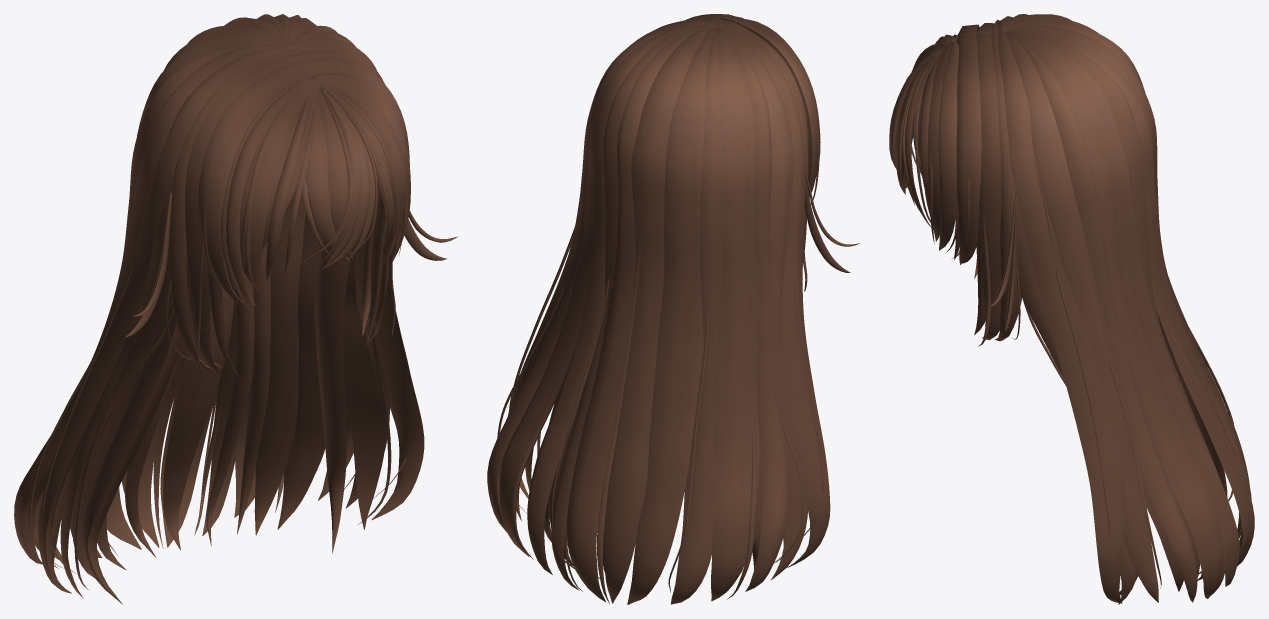
The model's file is vroid_hair1.glb.
The picture shows the model from 3 angles, left to right: view 1: azimuth 30°, elevation 25°; view 2: azimuth 150°, elevation 25°; view 3: azimuth 270°, elevation 25°; orthographic projection. The views are drawn at different scales.
Visible parts, largest first — view 1: hair; view 2: hair; view 3: hair.
Part boxes in pixels (bbox=[...]): hair: bbox=[14, 14, 457, 604]; hair: bbox=[487, 14, 859, 604]; hair: bbox=[889, 14, 1254, 604].
Size of the model in its own units: 0.3349 by 0.5101 by 0.31.
1 material, 1 textured.
